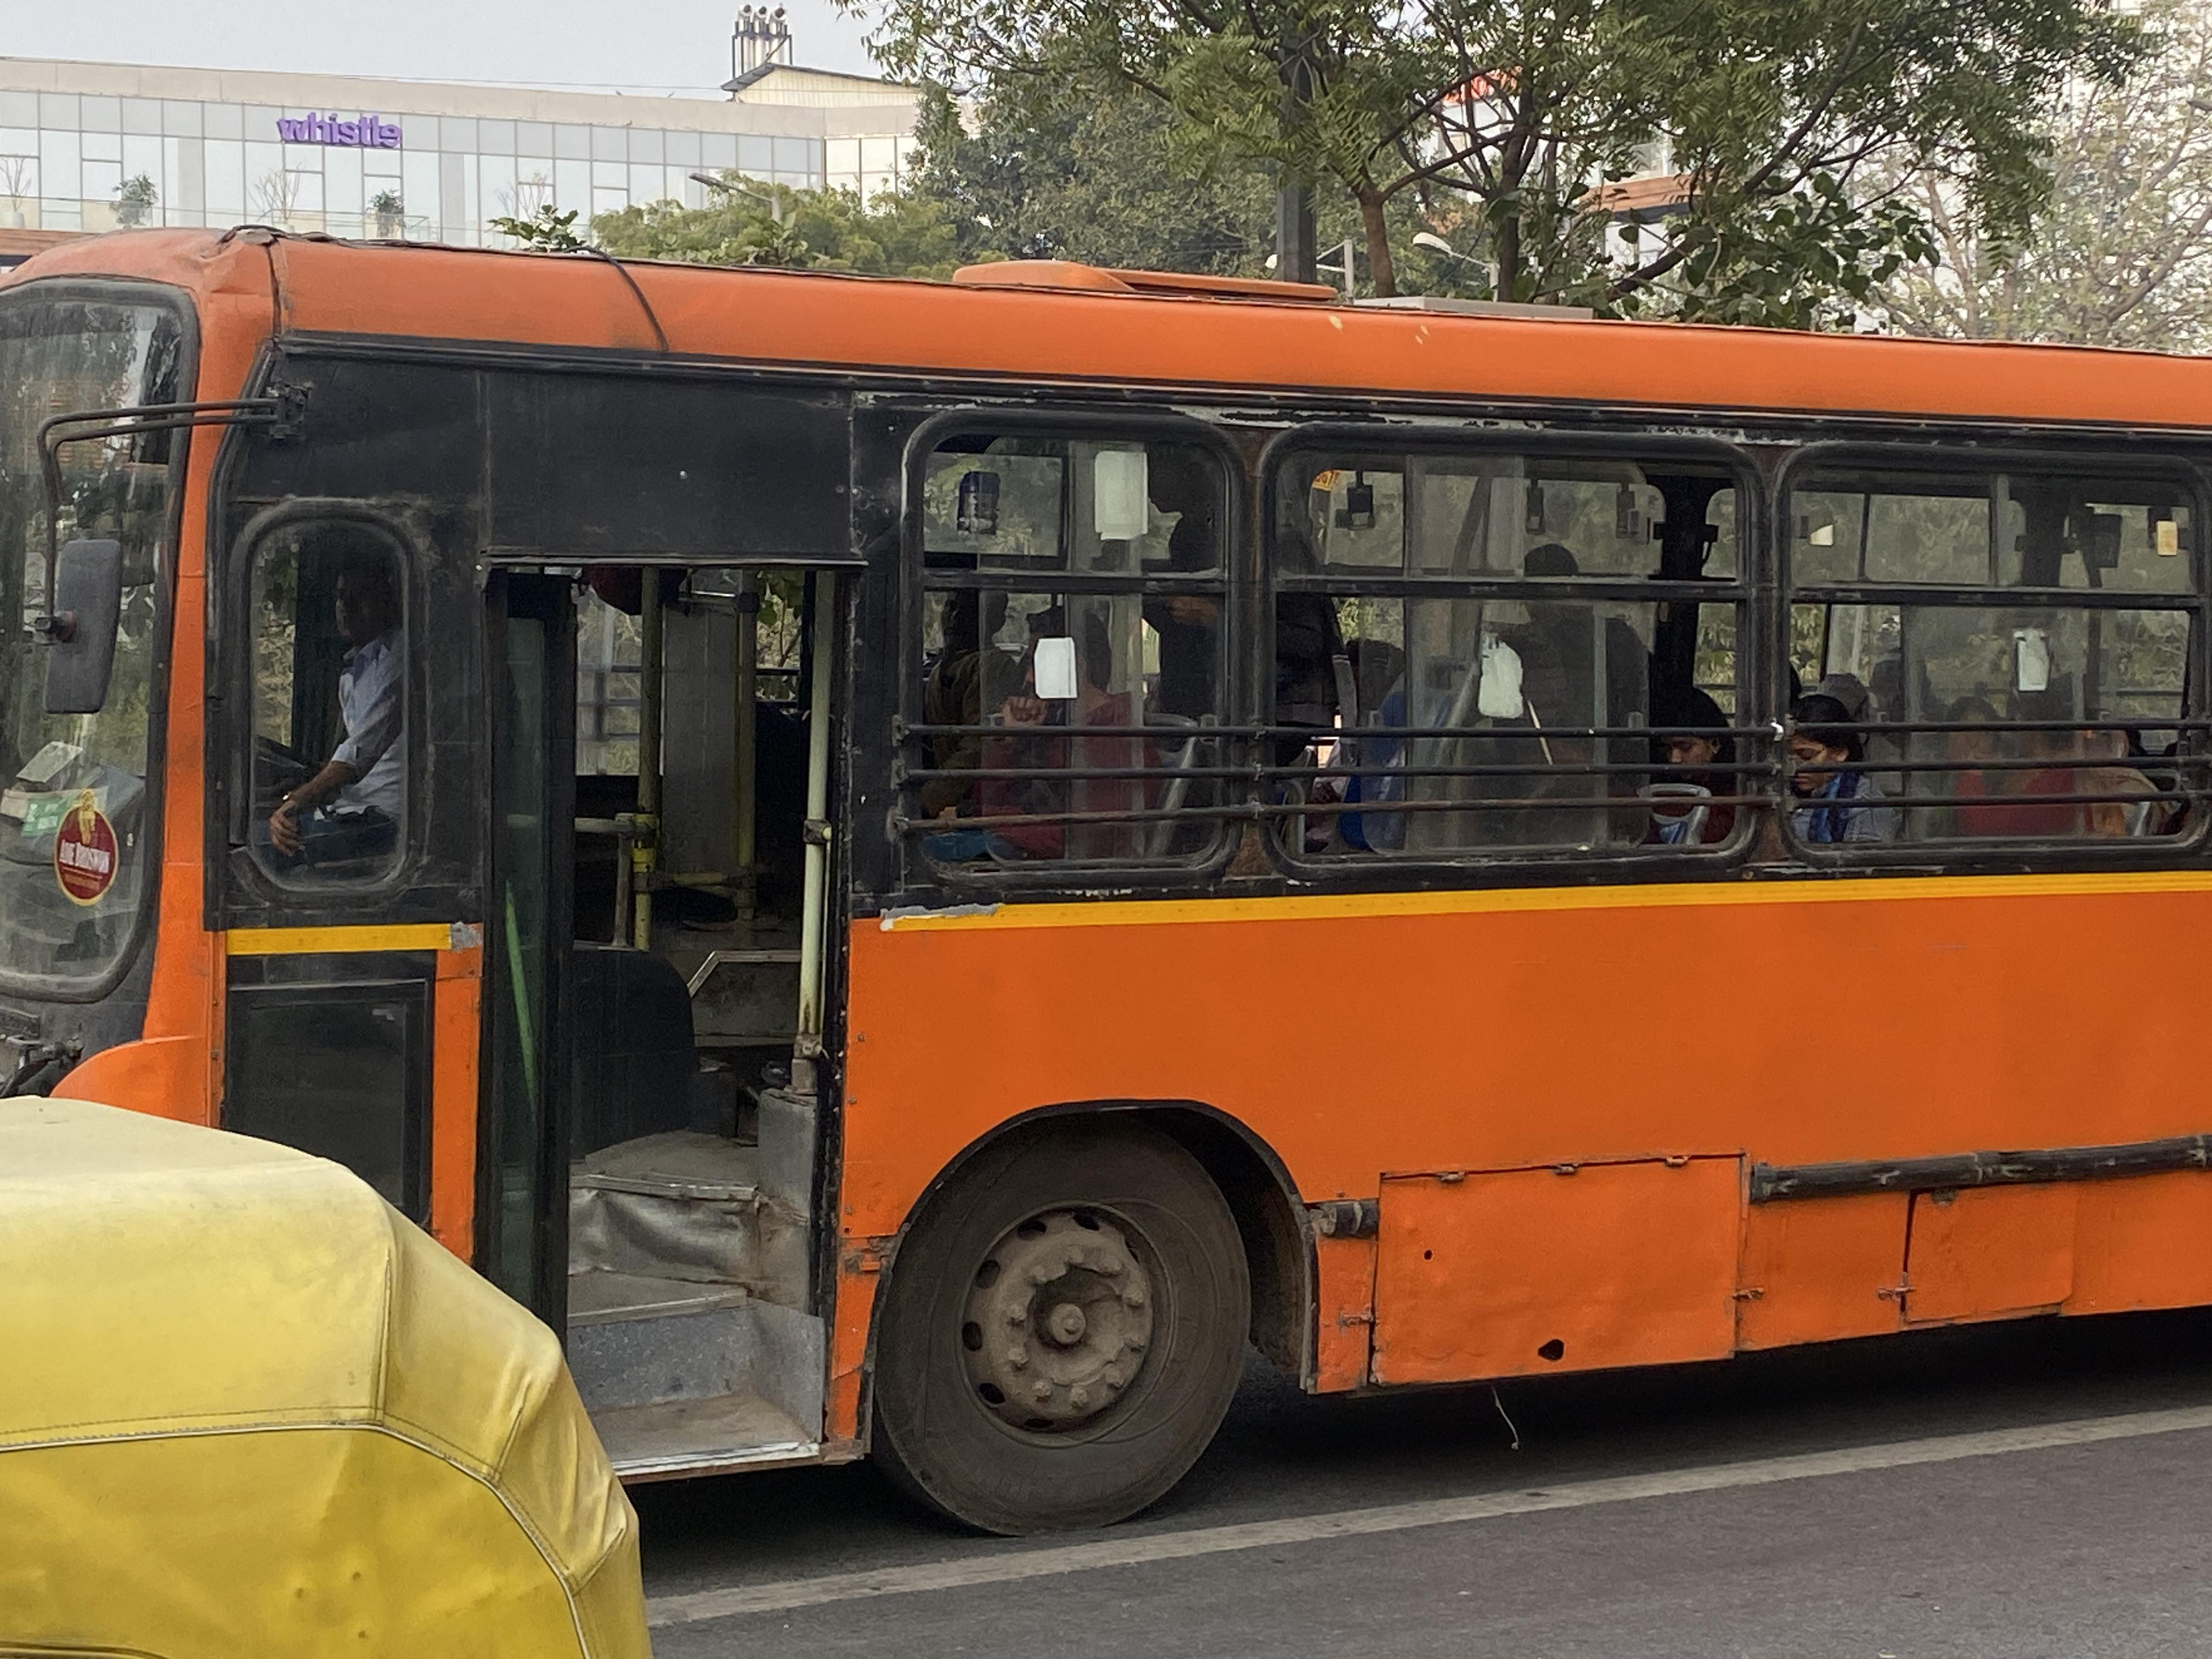Bus: (0, 235, 2212, 1415)
